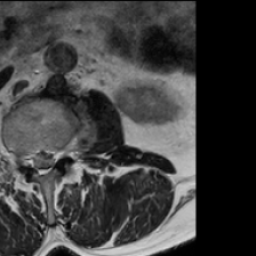CCS_normal: (38, 139, 48, 183)
LFS_normal: (57, 135, 67, 168)
LLS_normal: (48, 139, 57, 177)
RFS_normal: (18, 140, 29, 176)
RLS_normal: (29, 140, 38, 177)
